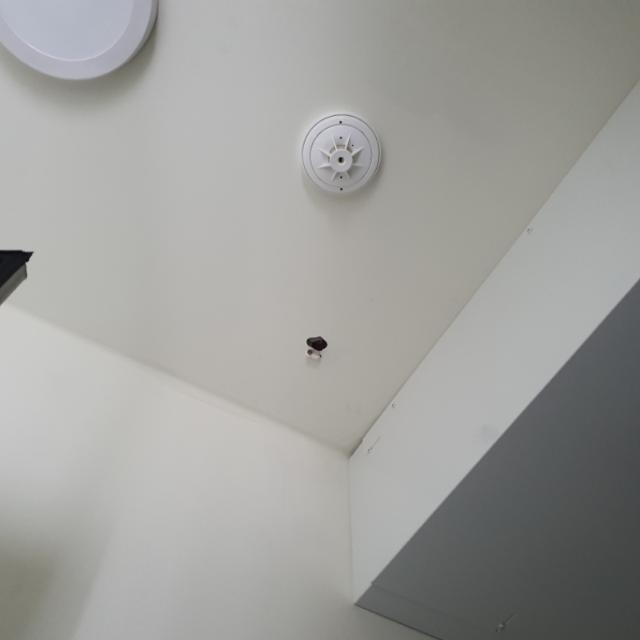Smoke-Detector: (299, 110, 381, 196)
